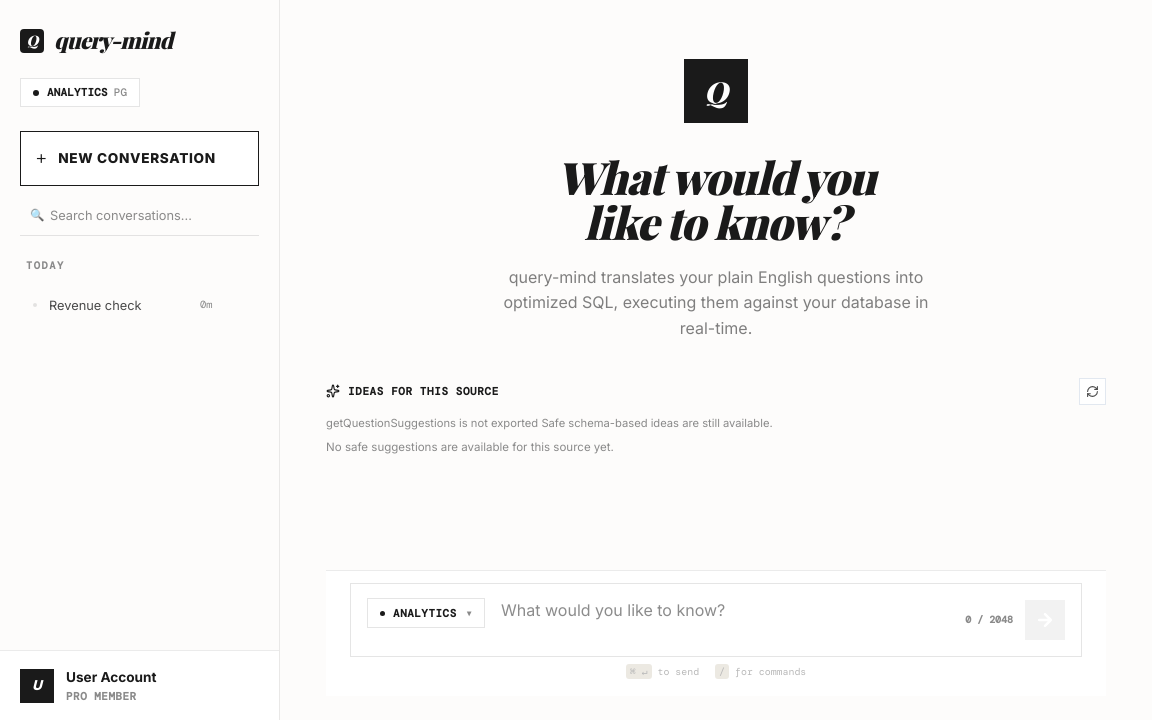
Scenario: chat bootstrap states › shows message load failure with retry
Click the text "Revenue check" at (95, 305), box [49, 298, 142, 313]
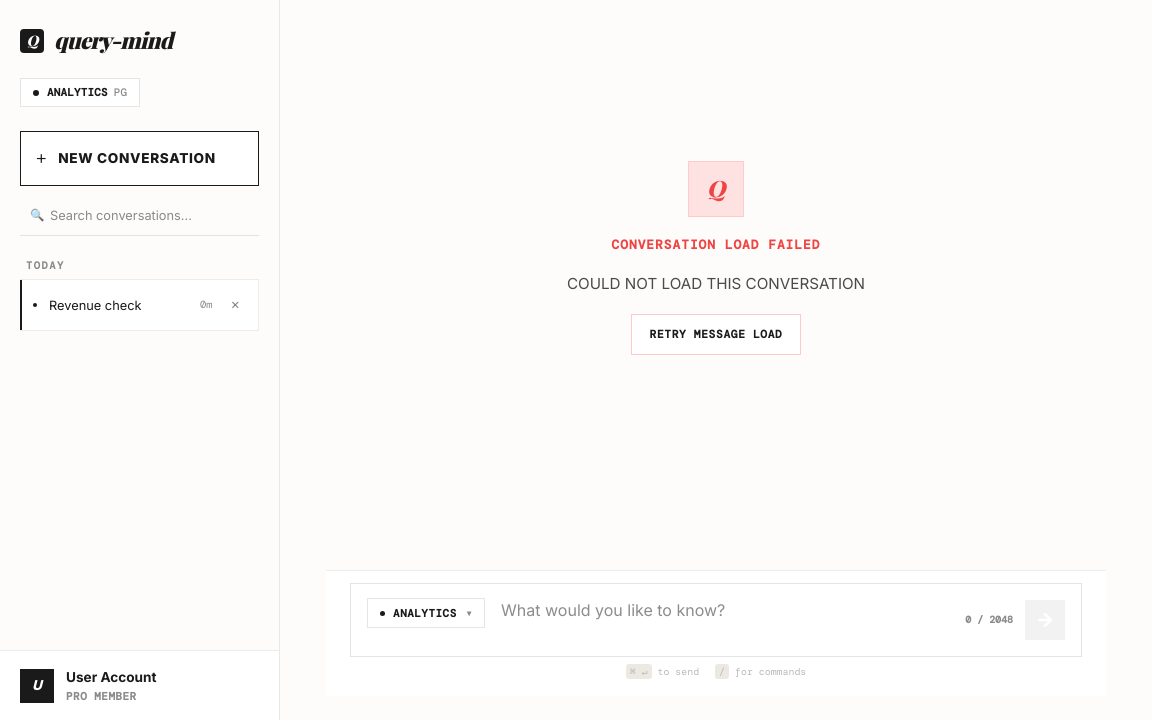
Expected: the text "COULD NOT LOAD THIS CONVERSATION" is shown, [567, 272, 865, 296]
Click the button "RETRY MESSAGE LOAD" at (716, 335), box [630, 314, 801, 355]
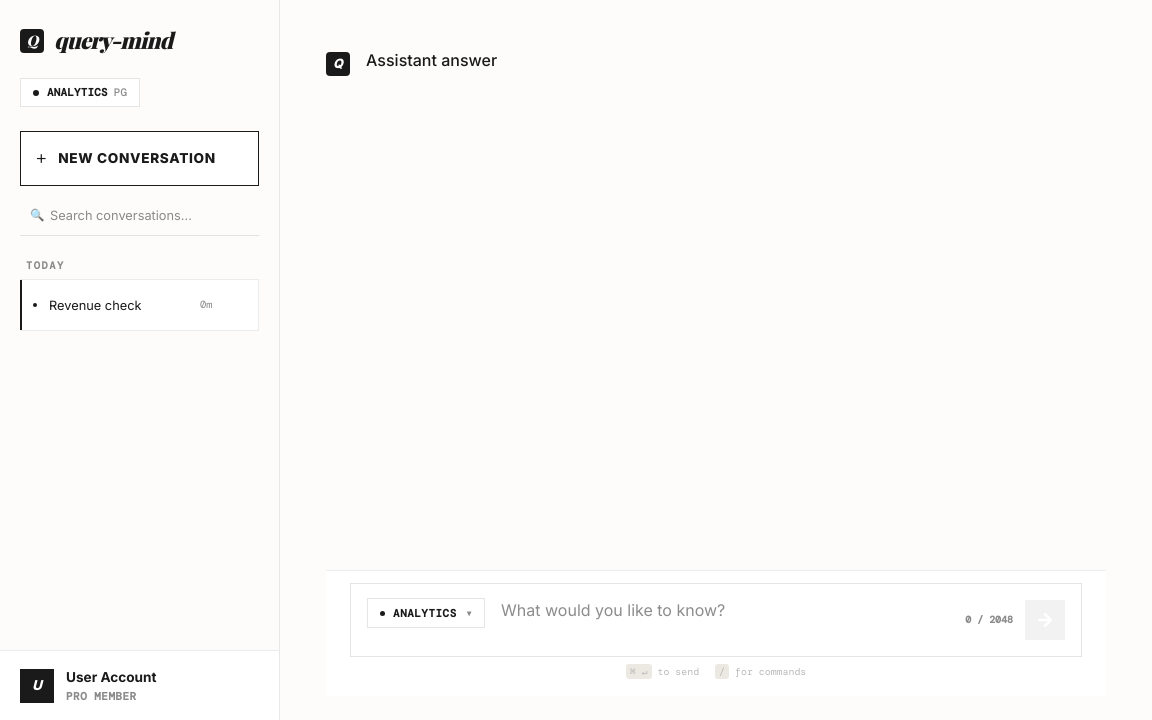
Expected: the text "Assistant answer" is shown, [366, 50, 497, 70]
